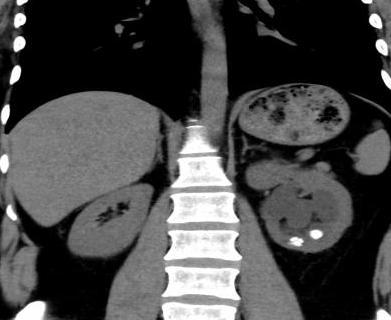Tas_Var: (310, 228, 324, 240), (288, 235, 298, 242), (293, 240, 303, 247), (297, 238, 306, 243)
